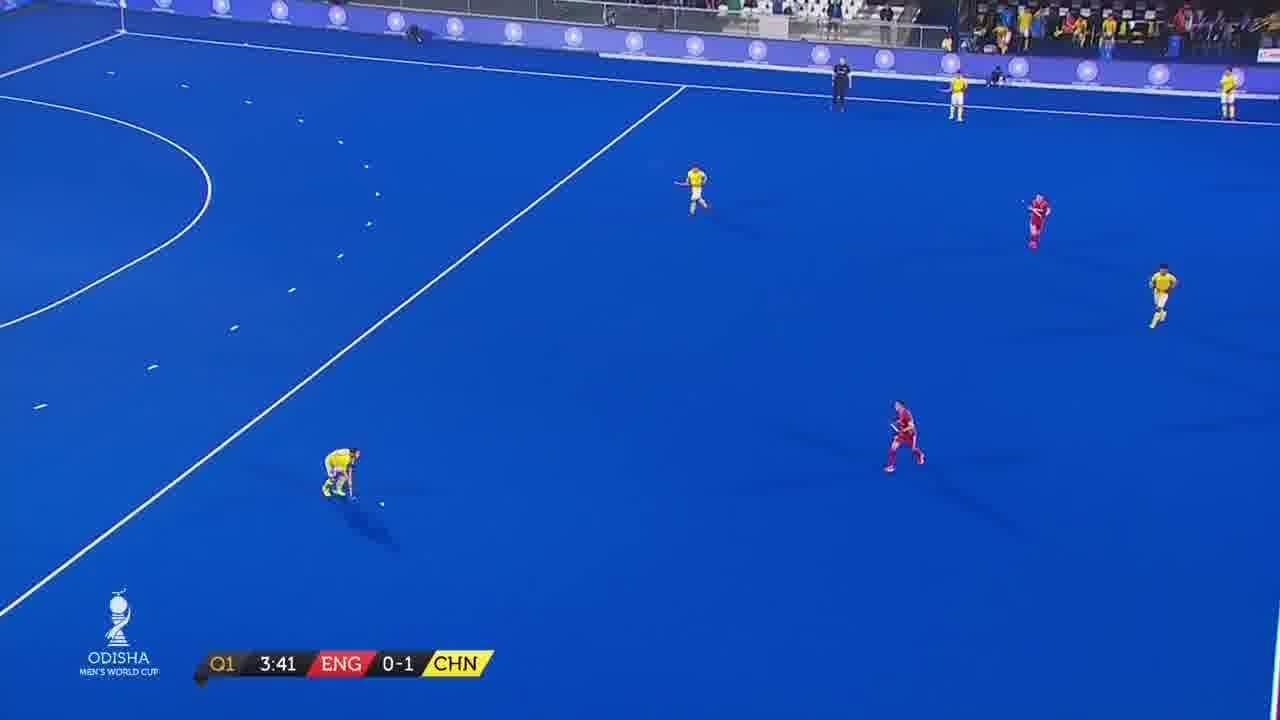ball: (374, 494, 390, 511)
